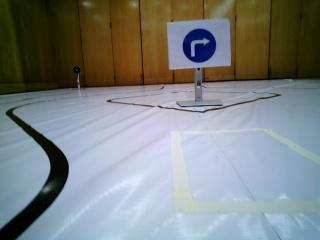right: (166, 28, 220, 70)
